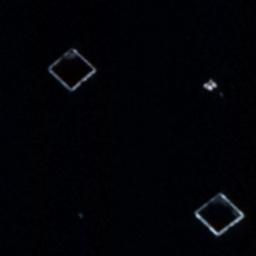square_solid: (192, 186, 247, 237), (45, 42, 98, 91)
